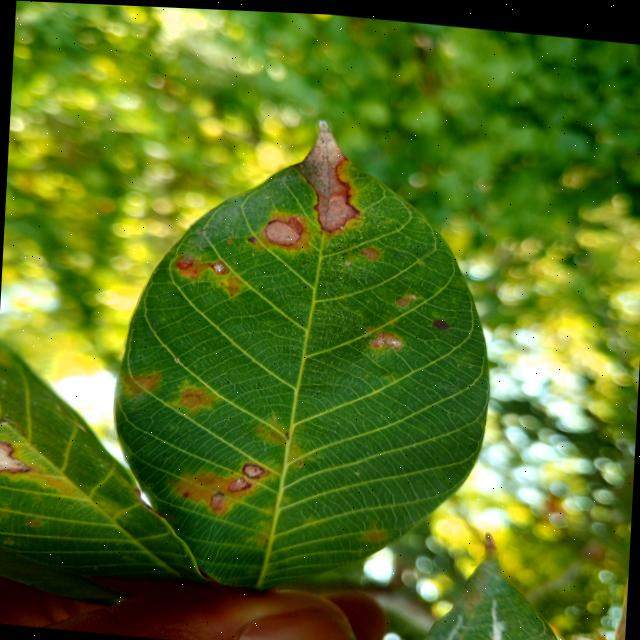Leaf-Blight: (290, 115, 364, 233), (0, 438, 30, 482), (264, 213, 302, 246)
